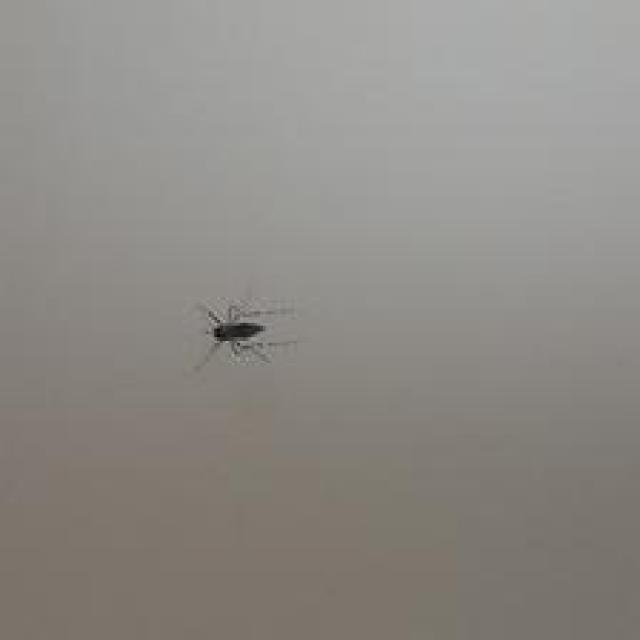Aedes albopictus: (192, 298, 297, 373)
